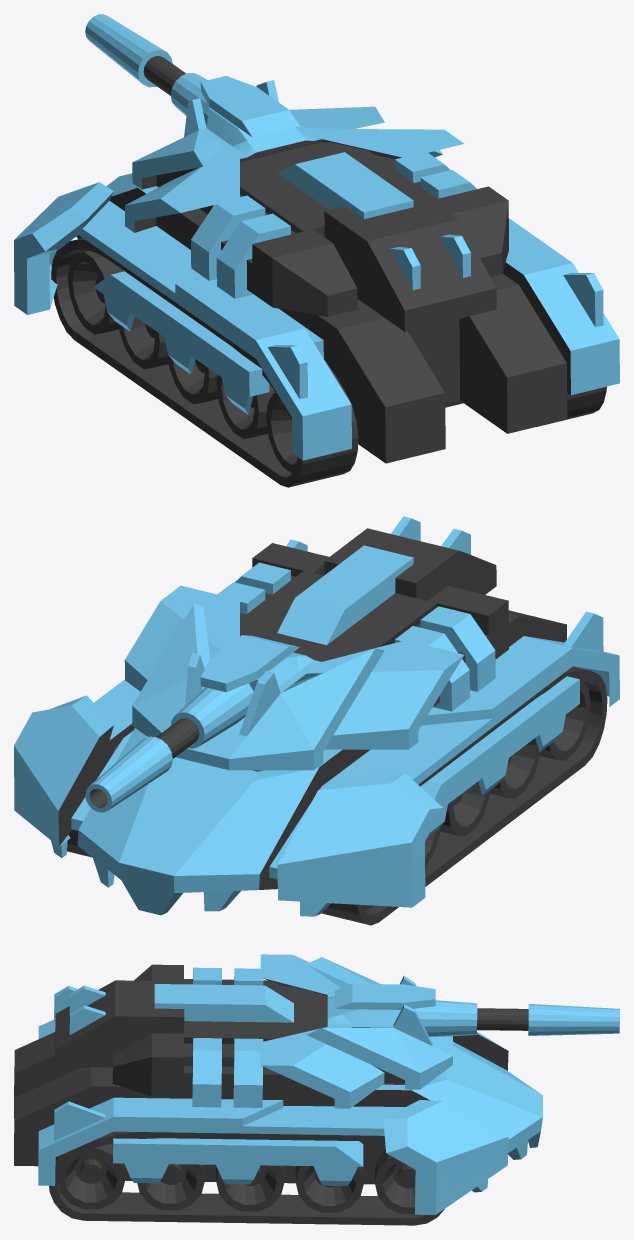
File: tank.obj
The picture shows the model from 3 angles, top to bottom: view 1: azimuth 30°, elevation 25°; view 2: azimuth 150°, elevation 25°; view 3: azimuth 270°, elevation 25°; orthographic projection. The views are drawn at different scales.
Visible parts, largest first — view 1: body, head; view 2: body, head; view 3: body, head.
Boxes of the visible parts, x1,y1,x2,y2 form: body: [14, 150, 619, 487]; head: [85, 14, 508, 331]; body: [14, 539, 619, 925]; head: [85, 516, 508, 812]; body: [14, 986, 542, 1225]; head: [55, 954, 619, 1108].
Size of the model in its own units: 1.13 by 0.5925 by 1.86.
